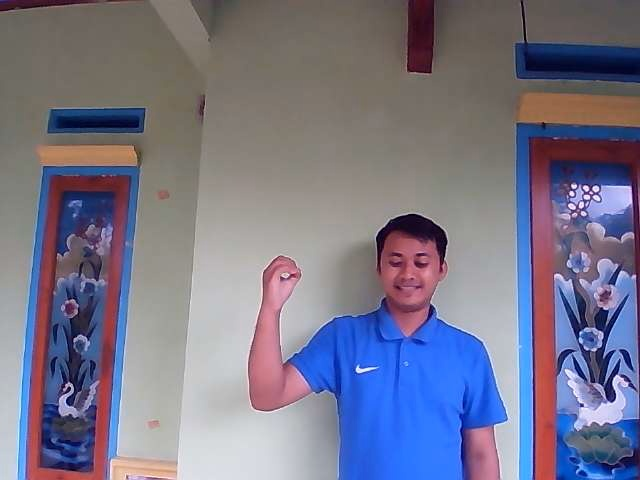O: (260, 254, 303, 308)
